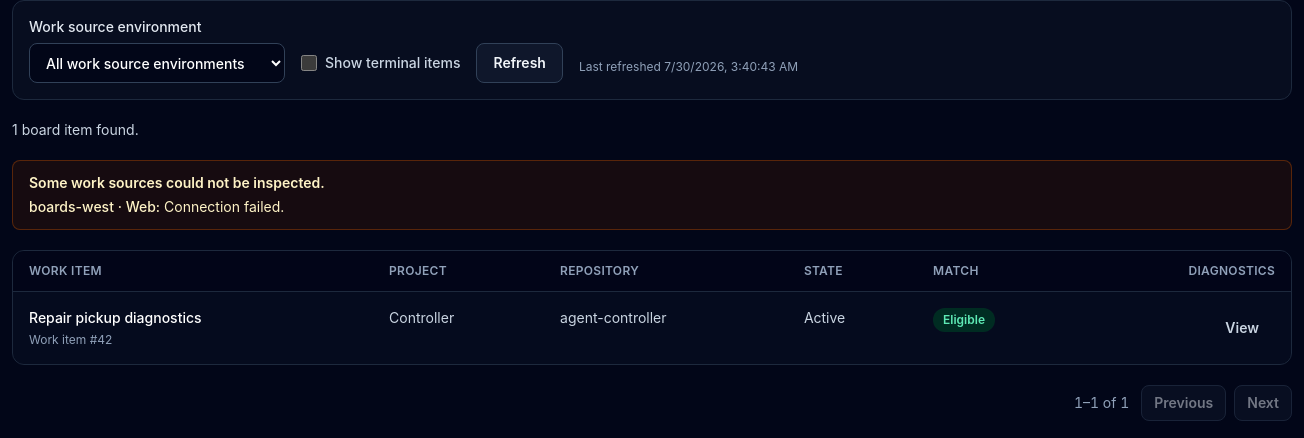
Test case: BoardItemsDebugTab › renders the operator toolbar, table, match badges, failures, and empty state
Check: the dropdown labelled "Work source environment" shows "All work source environments", box [29,43,285,83]
Check: the checkbox labelled "Show terminal items" is not checked, box [301,55,317,71]
Click the button "Refresh". click: click(520, 63)
box: [476,43,563,83]
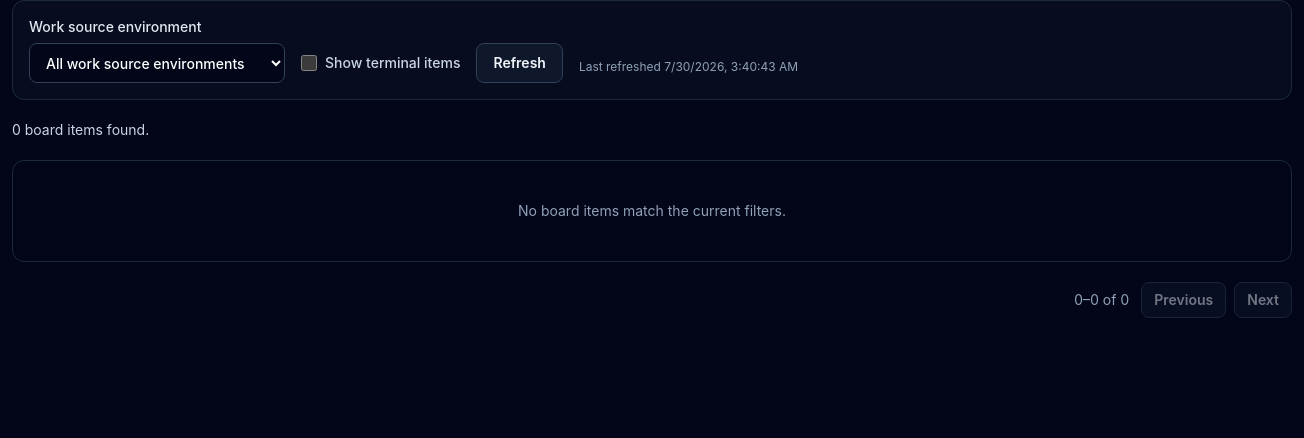
Check: the text "No board items match the current filters." is shown, box [12,160,1292,262]
Check: the text "0 board items found." is shown, box [12,121,149,138]
